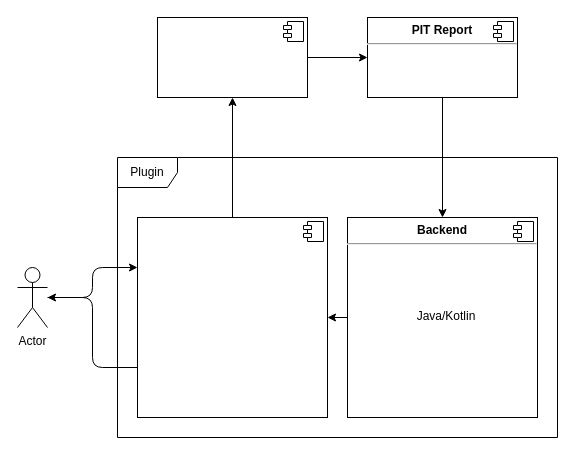
Image size: 575x455. Some labels were removed from this diagram. Here are the shapes that lost their labels. From the top down, the centre of each, then its label:
(232,57): Pi Test
(232,317): Frontend IntelliJ IDE Java Swing
